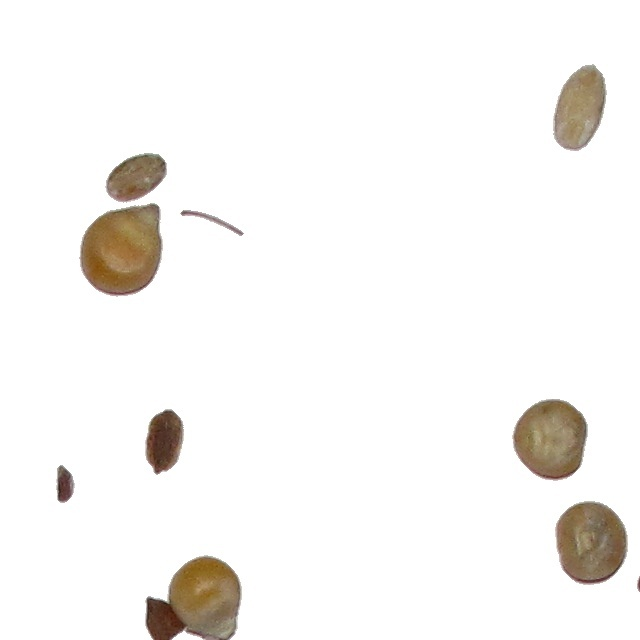buckwheat: (144, 408, 185, 476), (55, 464, 76, 504), (636, 562, 640, 609)
dill: (179, 209, 240, 231)
mais: (78, 202, 164, 298), (511, 398, 589, 482), (554, 500, 629, 586), (168, 554, 243, 640)
other: (552, 63, 608, 152), (104, 152, 168, 204)
